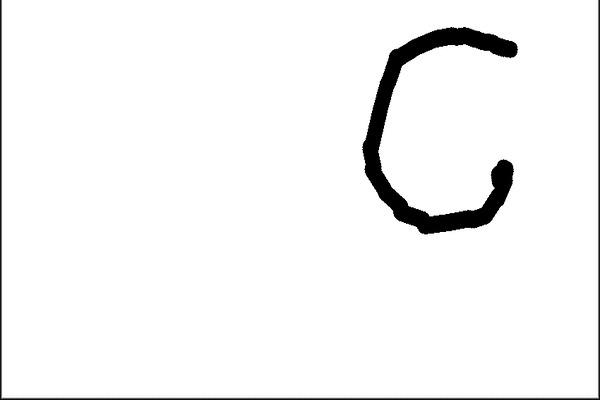C: (357, 21, 520, 236)
